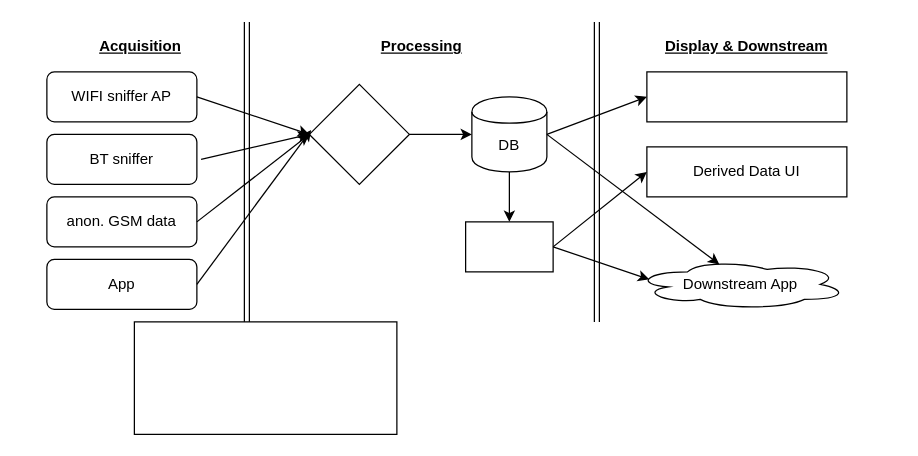
The diagram is 918 pixels wide and 456 high, and some of its shapes have lost their labels. Here are the shapes that lost their labels. From the top down, the centre of each, then its label:
the point at 746,96: Raw Data UI
the point at 358,133: Aggregator
the point at 508,246: Processing (TBD)
the point at 265,377: Data & Format Data and Format to be transmitted to the Aggregator is TBD
